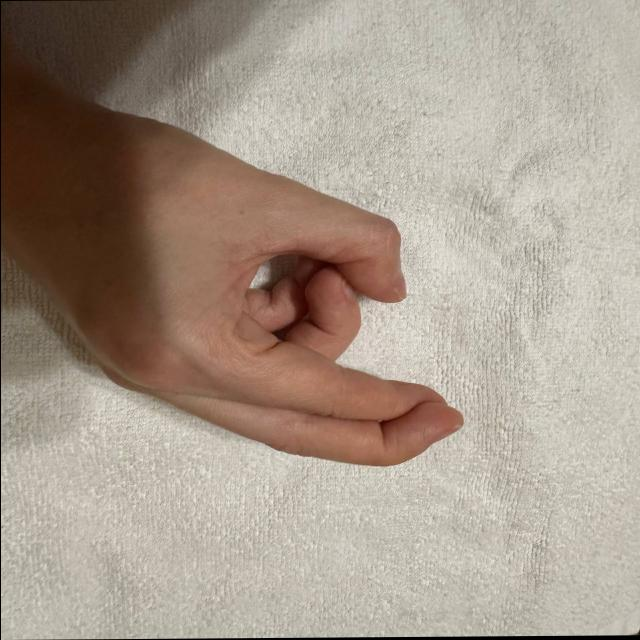ia: (51, 110, 480, 565)
